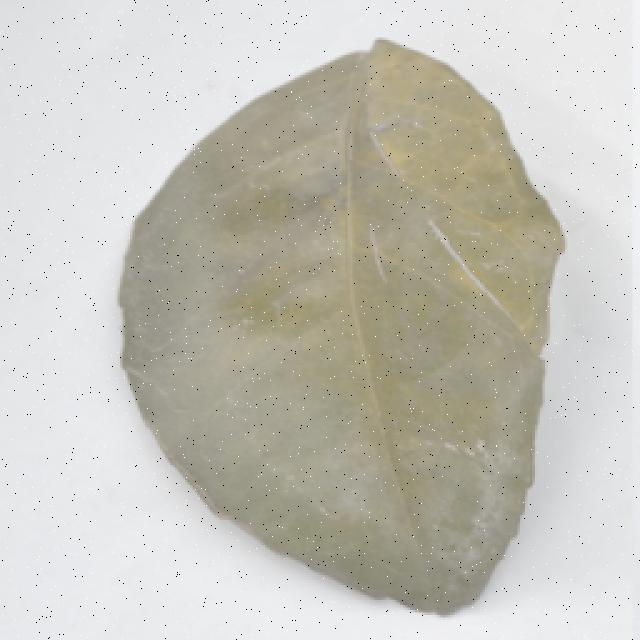greening: (120, 23, 560, 615)
